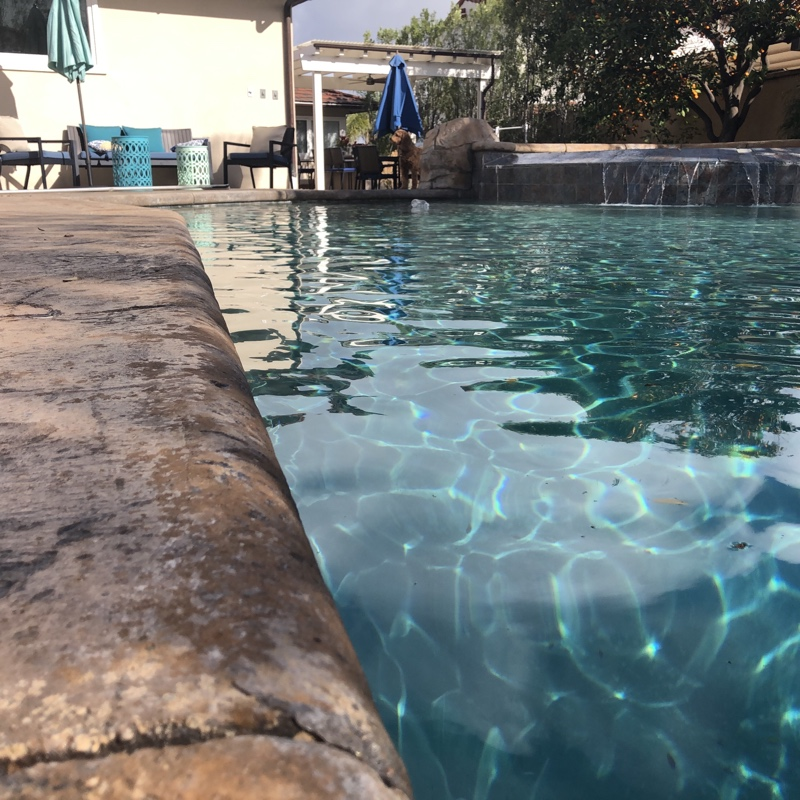Plastic Bottle: (407, 195, 429, 215)
